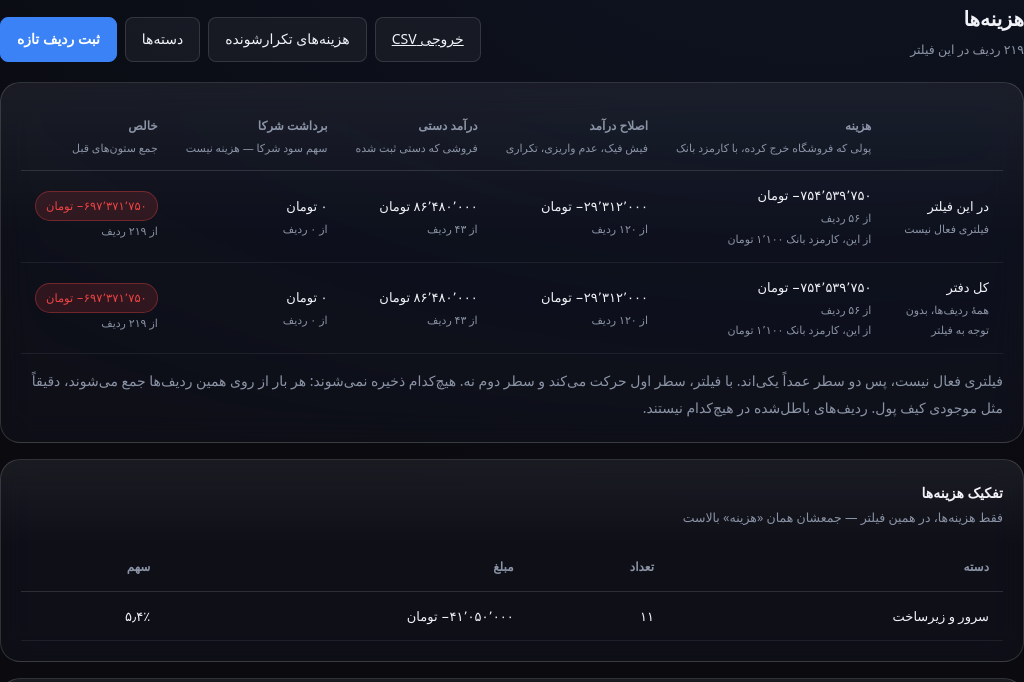
it: who and what for › says how many services are under each panel, and that a cost on an empty one is spread nowhere
Click the button "ثبت ردیف تازه": click(58, 40) [0,17,117,62]
(page scrolled)
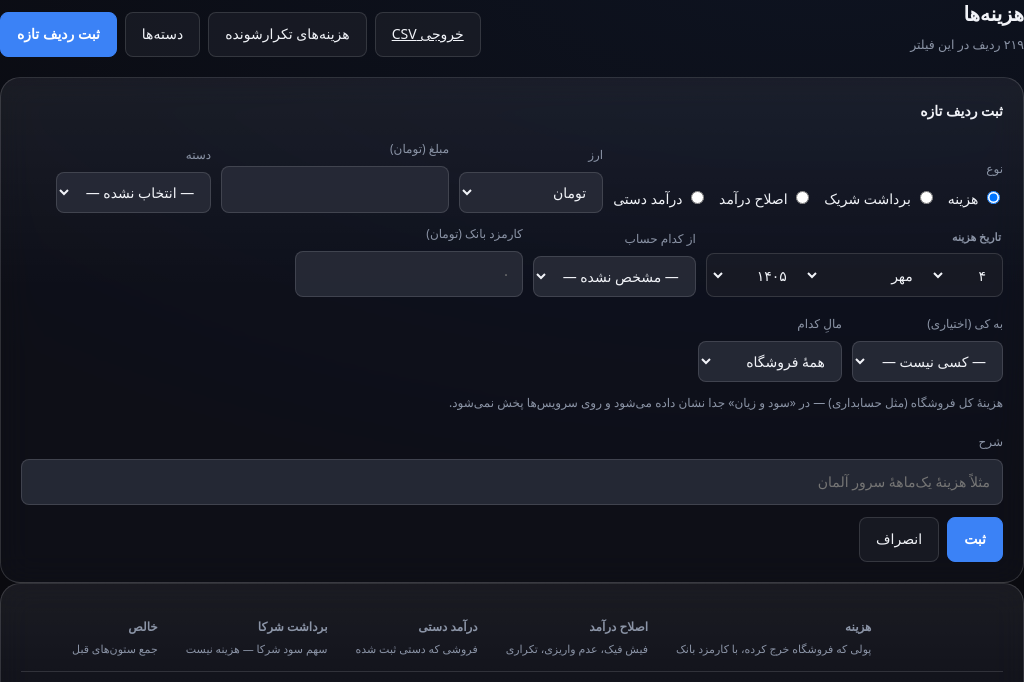
Check: the text "ثبت ردیف تازه" is shown, box [920,98,1003,124]
In the field labelled "مبلغ (تومان)": (335, 189) [221,166,449,213], type "1000"
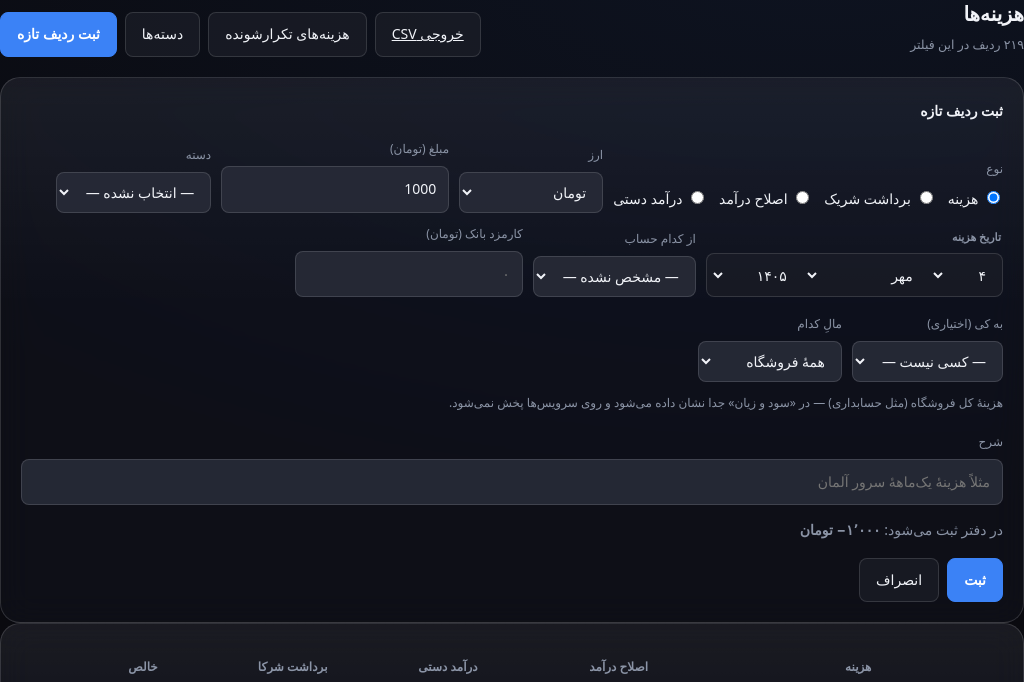
In the field labelled "شرح": (512, 482) [21,458,1003,505], type "تبلیغ کانال"
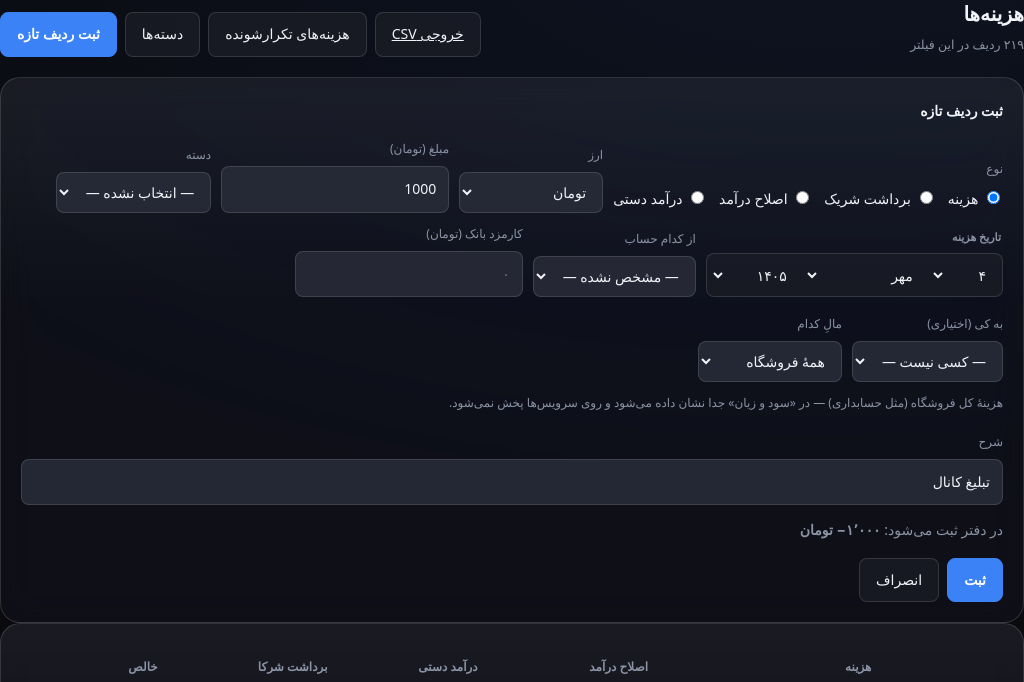
Select "پنل" in the dropdown labelled "مالِ کدام": (770, 361) [698,341,842,382]
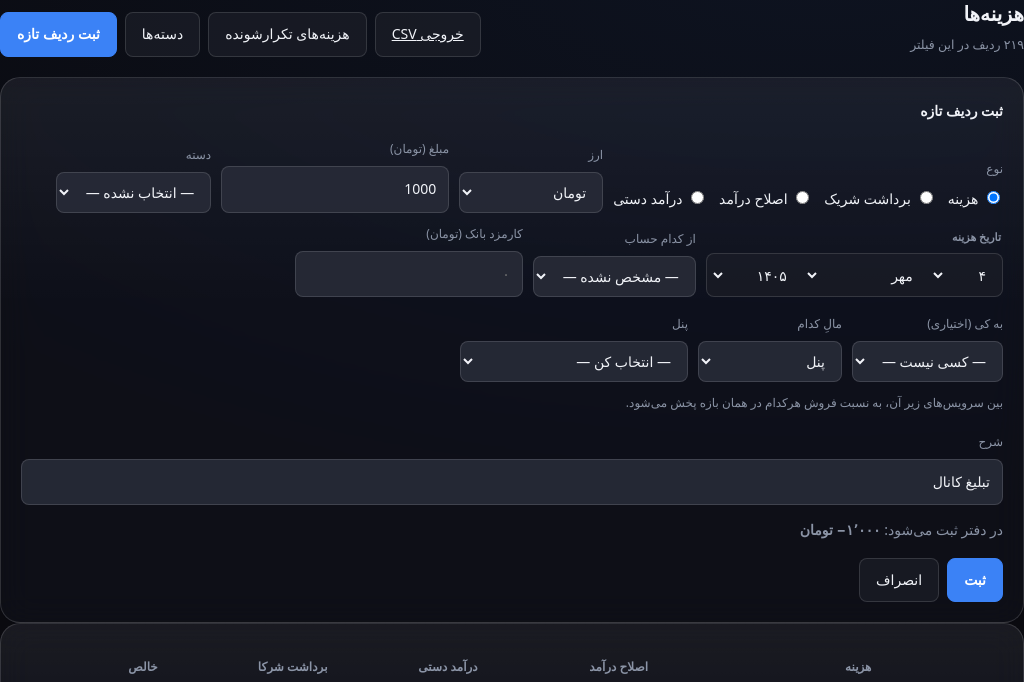
Select "سرویس الماس (بدون سرویس)" in the dropdown labelled "پنل": (574, 361) [460,341,688,382]
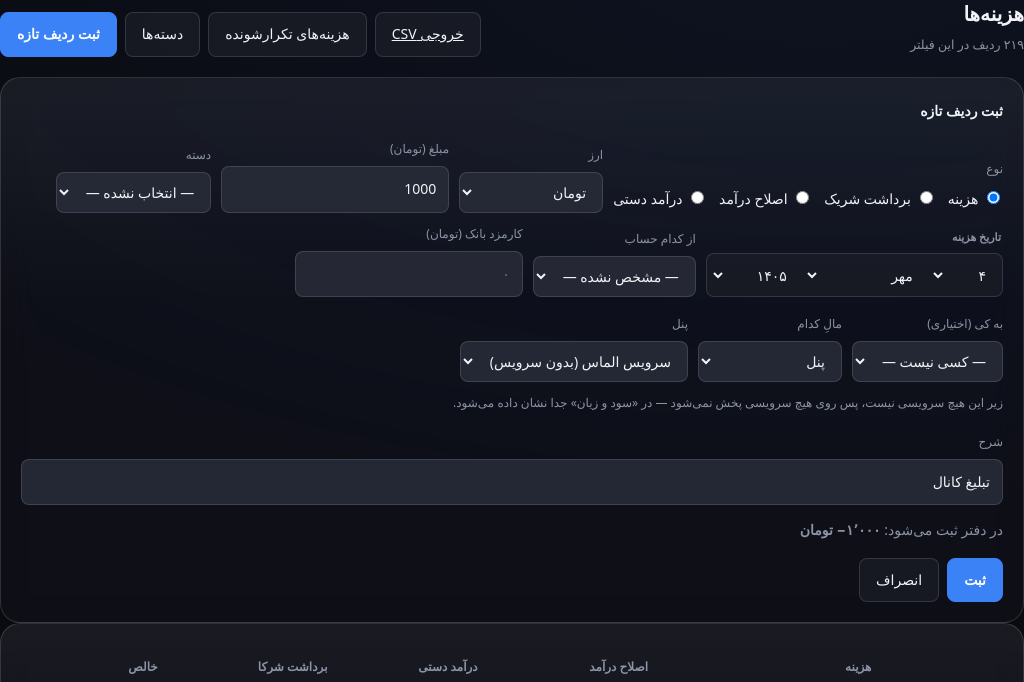
Check: the text "زیر این هیچ سرویسی نیست" is shown, box [453,394,1003,411]
